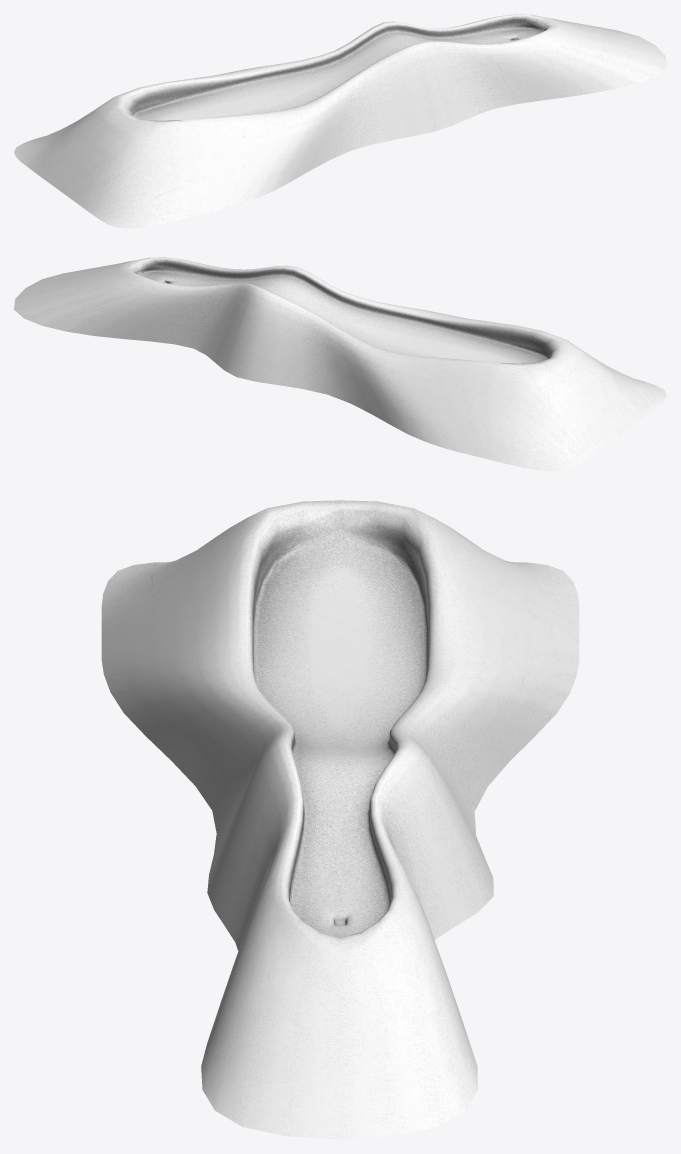
File: set2.fbx
3 views of the same model, one above another, from view 1: azimuth 30°, elevation 25°; view 2: azimuth 150°, elevation 25°; view 3: azimuth 270°, elevation 25° (orthographic). The views are drawn at different scales.
Visible parts, largest first — view 1: Plane; view 2: Plane; view 3: Plane.
Boxes of the visible parts, x1,y1,x2,y2 form: Plane: (14, 14, 666, 228); Plane: (14, 257, 666, 471); Plane: (101, 500, 579, 1139).
Size of the model in its own units: 228 by 27.39 by 79.52.
Materials: 1 (1 with a texture image).
